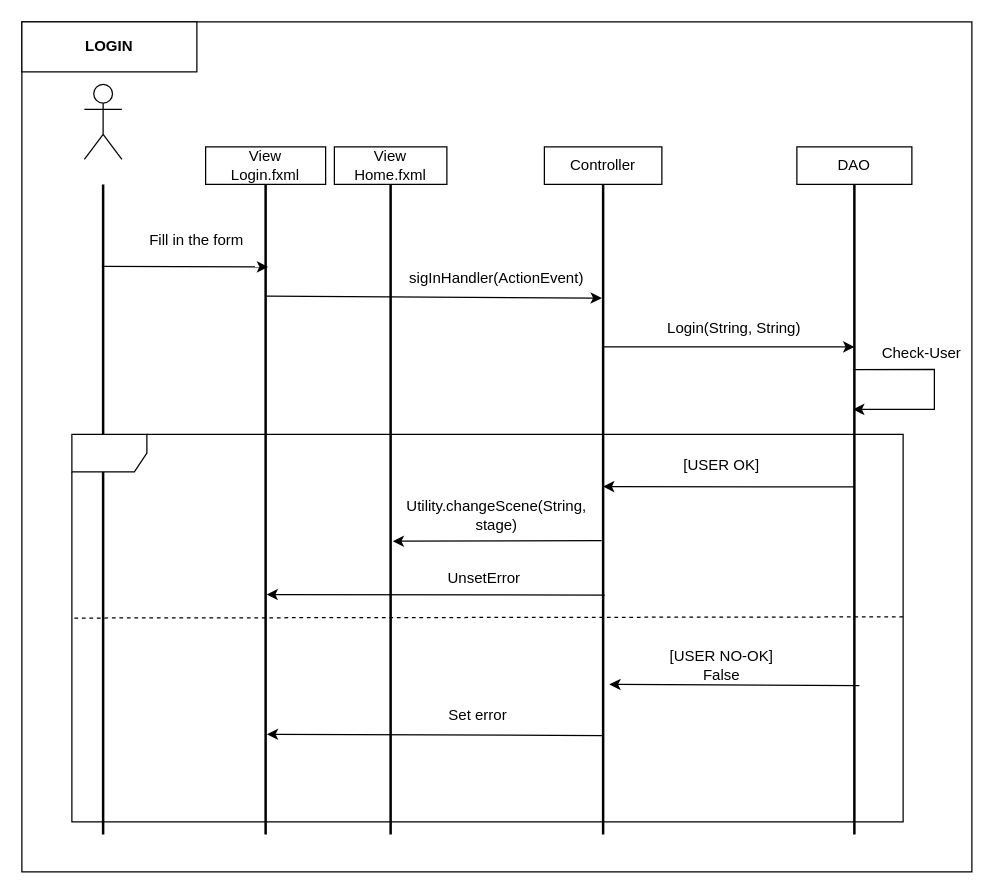
The diagram is 994 pixels wide and 894 high, and some of its shapes have lost their labels. The shapes that lost their labels are listed below. From the top down, each one's box as (x1, y1, x2, y2) in pixels, then its label:
(83, 83, 122, 159): User
(71, 433, 903, 822): alt
